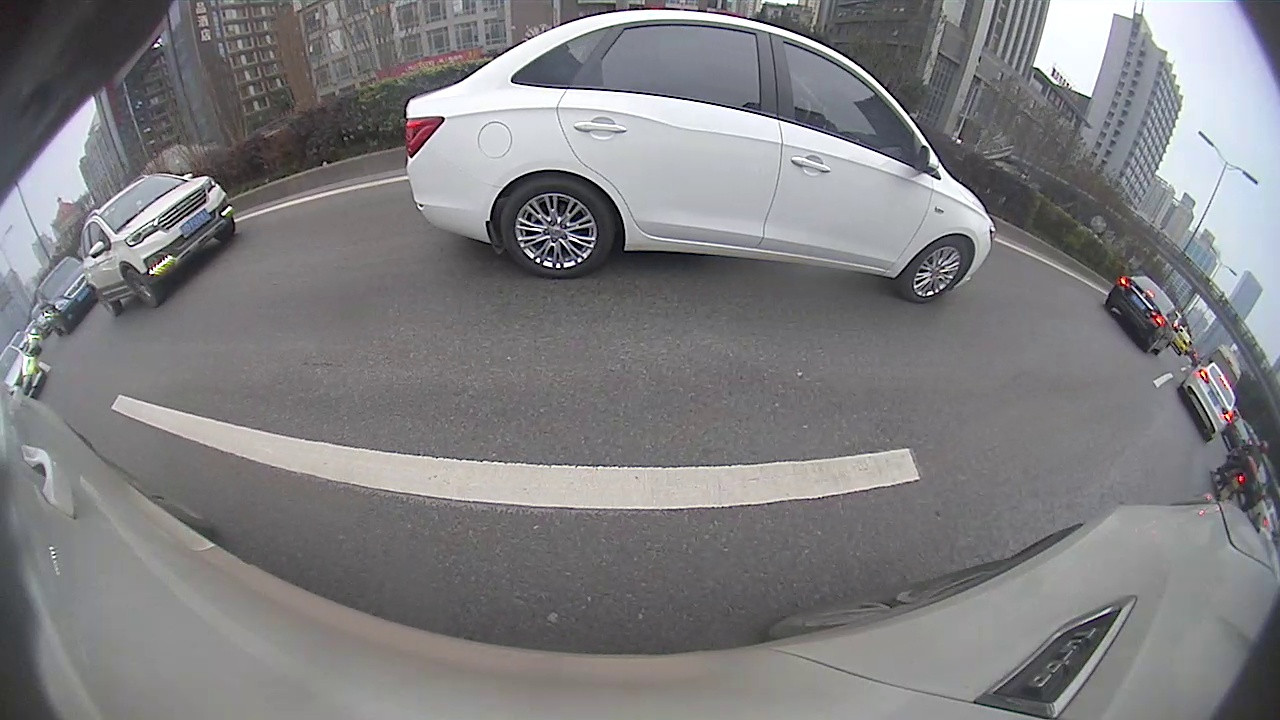bus: (875, 147, 1071, 219), (1240, 271, 1278, 390)
car: (946, 192, 1136, 297), (113, 247, 250, 342), (10, 363, 62, 420), (792, 165, 869, 203), (1131, 234, 1192, 280), (704, 157, 747, 186), (747, 162, 776, 184), (617, 160, 645, 181)
front: (952, 213, 974, 242), (889, 188, 907, 206)
rear: (1040, 247, 1074, 287)
